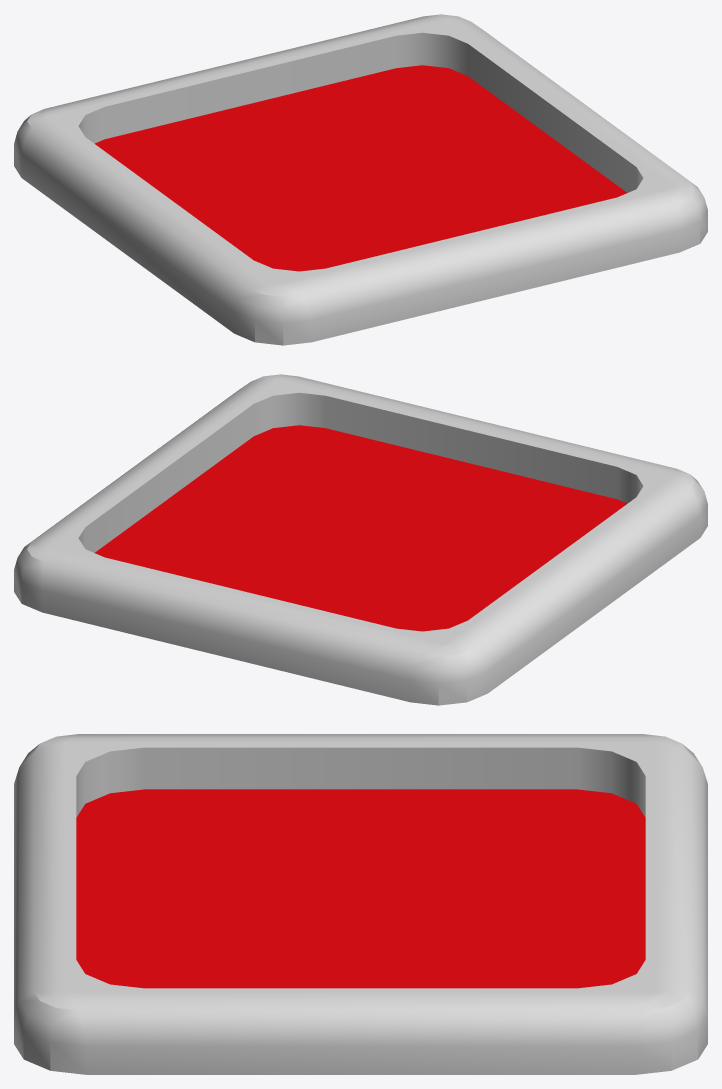
File: RahmenQuadrat.fbx
3 views of the same model, one above another, from view 1: azimuth 30°, elevation 25°; view 2: azimuth 150°, elevation 25°; view 3: azimuth 270°, elevation 25° (orthographic). The views are drawn at different scales.
Parts seen in each view (by area): view 1: Cube; view 2: Cube; view 3: Cube.
Boxes of the visible parts, bbox=[...] form: Cube: bbox=[14, 14, 707, 345]; Cube: bbox=[14, 374, 707, 705]; Cube: bbox=[14, 734, 707, 1074].
Bounding box in the file's own units: 193 × 18.56 × 193.
